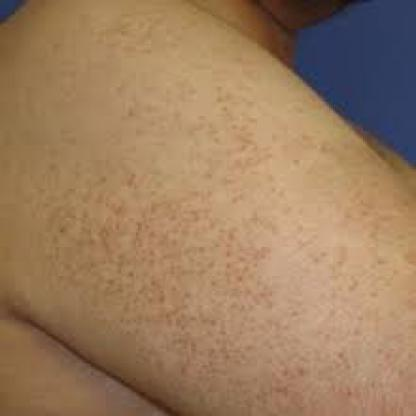Chicken Skin: (60, 190, 369, 414), (164, 64, 307, 193)
